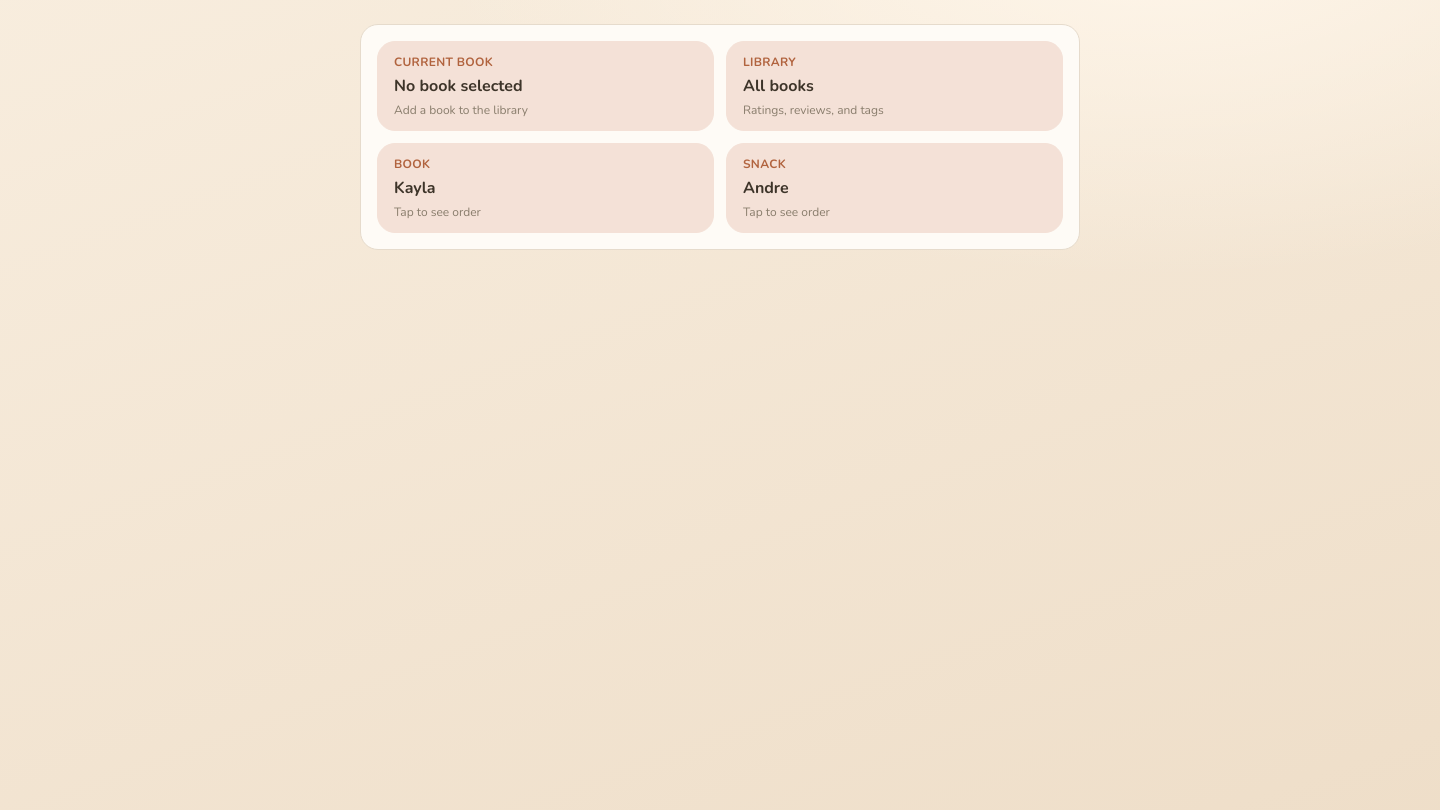
Scenario: BookClub cards and library › opens the add-book flow from an empty current-book card
Step 1. Click the button "Current book No book selected Add a book to the library" → click(444, 62), box x1=378 y1=42 x2=713 y2=130
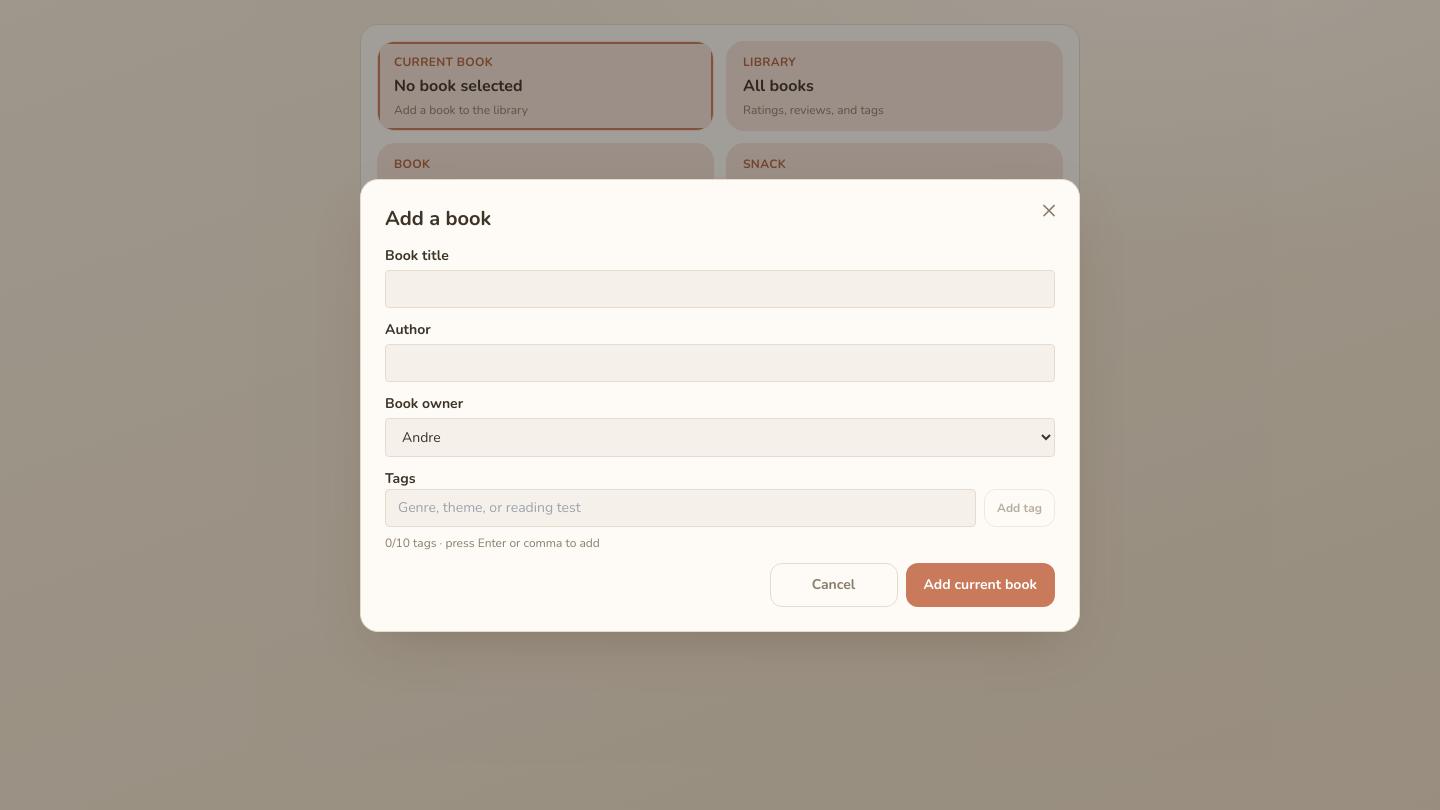
Now the dialog "Add a book" shows "Book owner", box x1=385 y1=394 x2=463 y2=412
